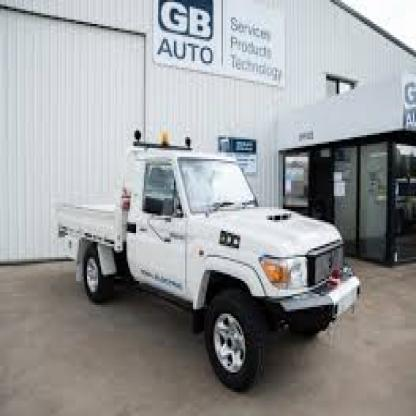light_vehicle: (38, 116, 364, 408)
